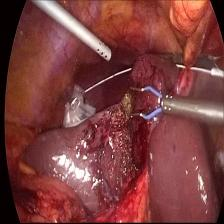Bipolar: (122, 84, 174, 125)
Irrigator: (88, 32, 112, 65)
Specimen Bag: (59, 77, 97, 133)
